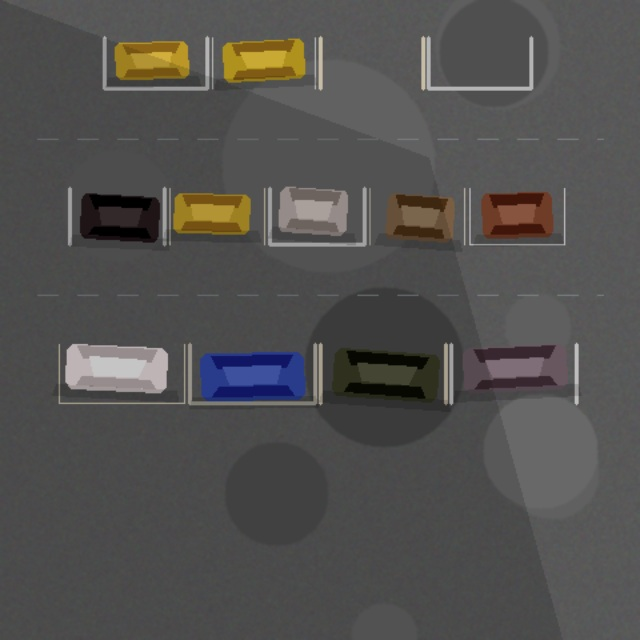space-empty: (320, 37, 423, 88), (428, 37, 531, 88)
space-occupied: (189, 344, 315, 403), (59, 344, 184, 403), (320, 344, 445, 403), (451, 344, 576, 403), (69, 188, 164, 244), (169, 188, 264, 244), (269, 188, 364, 244), (369, 188, 464, 244), (469, 188, 564, 244), (104, 37, 207, 88), (212, 37, 315, 88)
